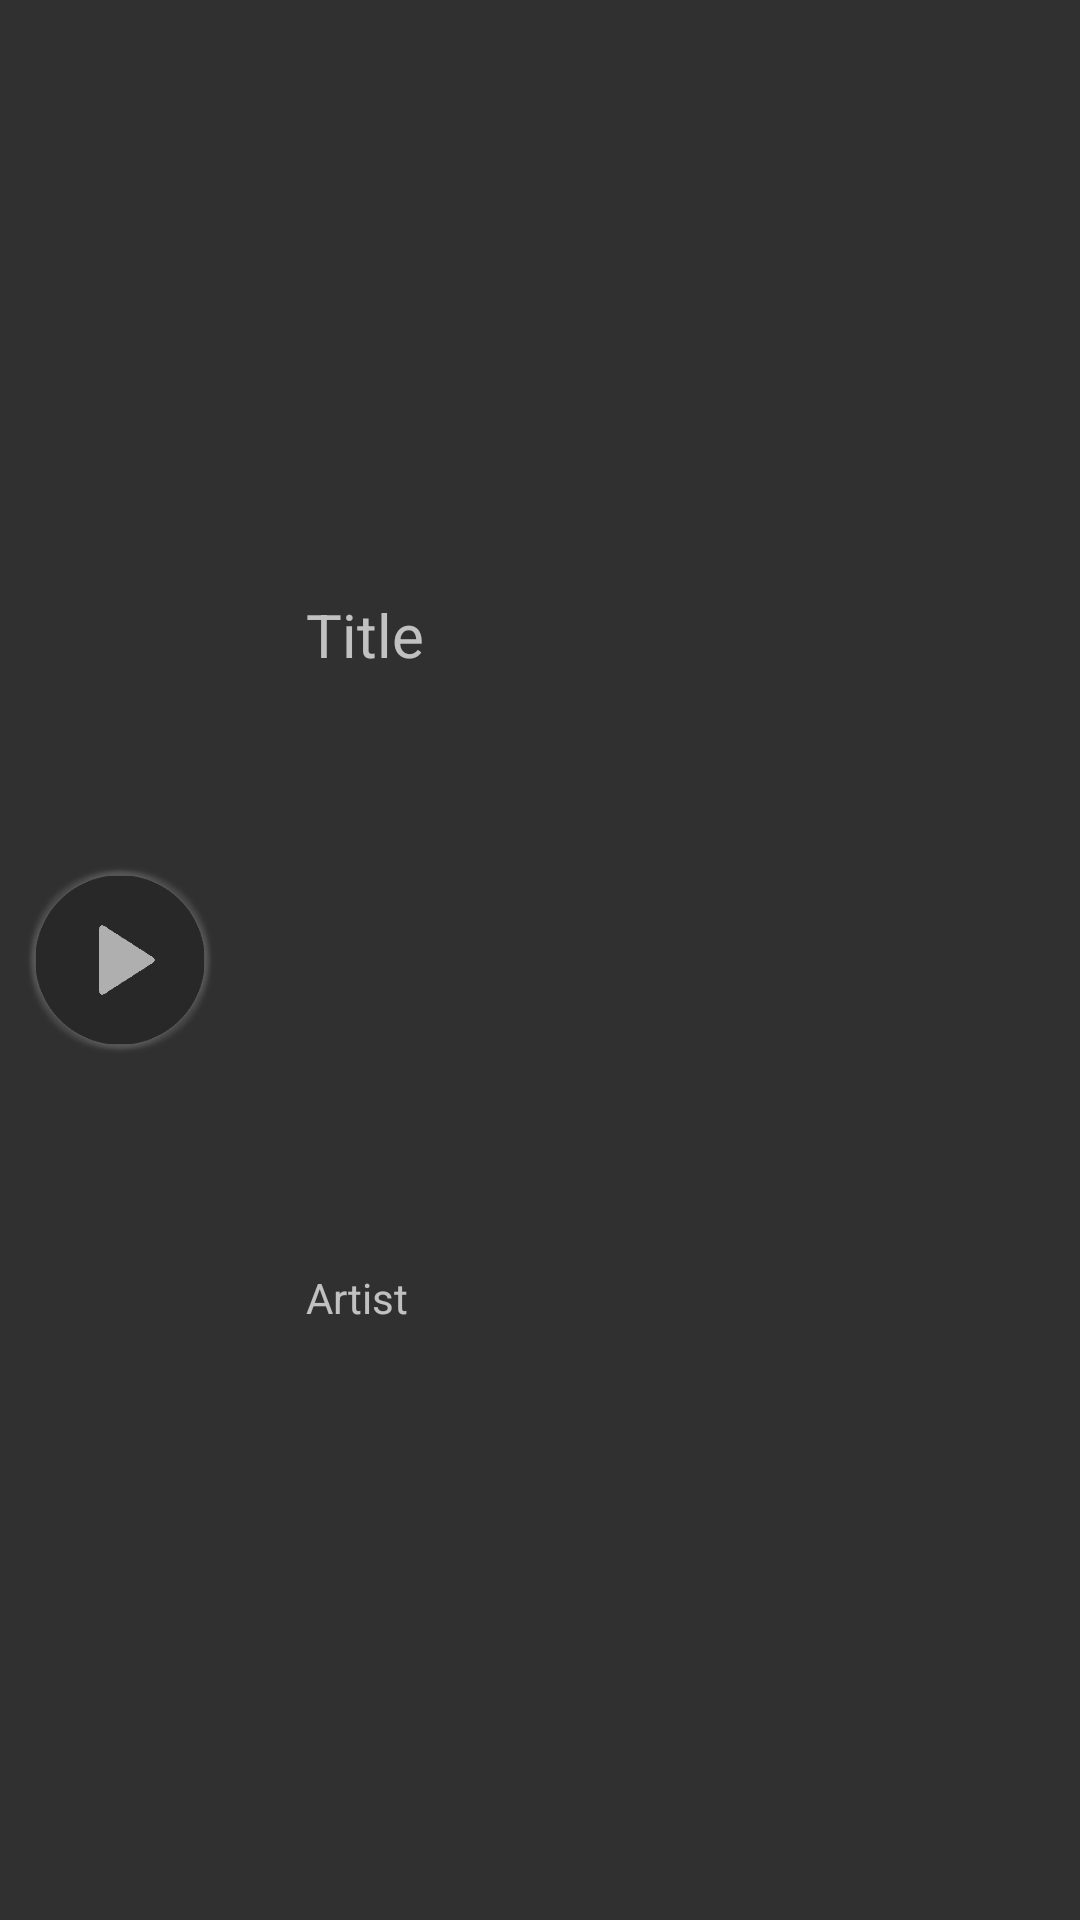

Screen size 1080px×1920px. Icon name, then its box in pixels as (x1, y1, x2, y2):
play: (32, 872, 208, 1048)
